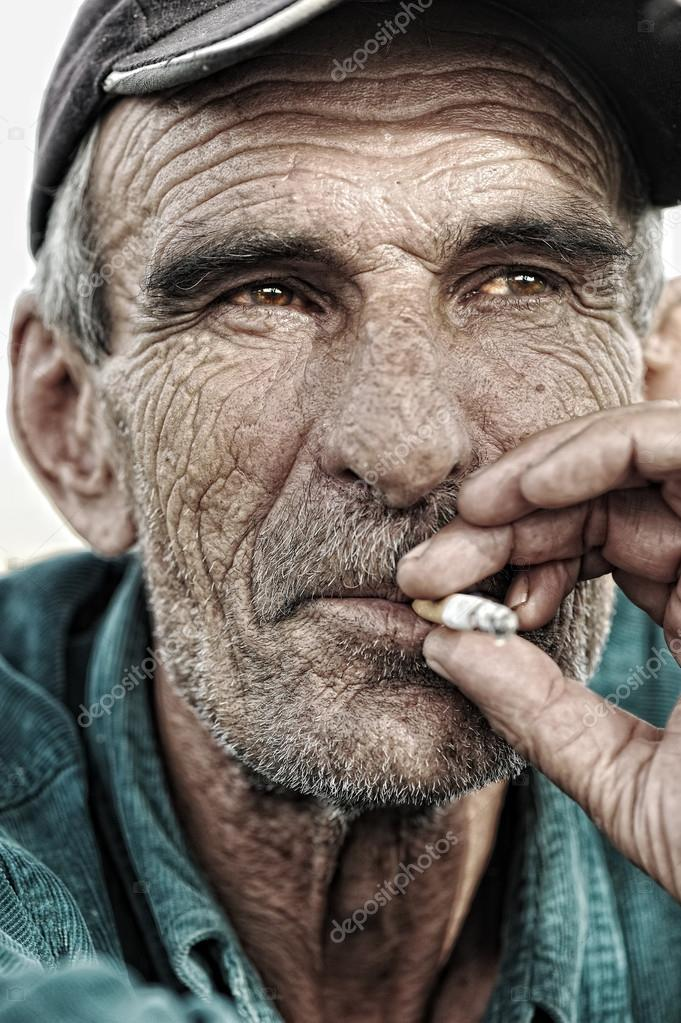cigarette: (409, 577, 534, 653)
